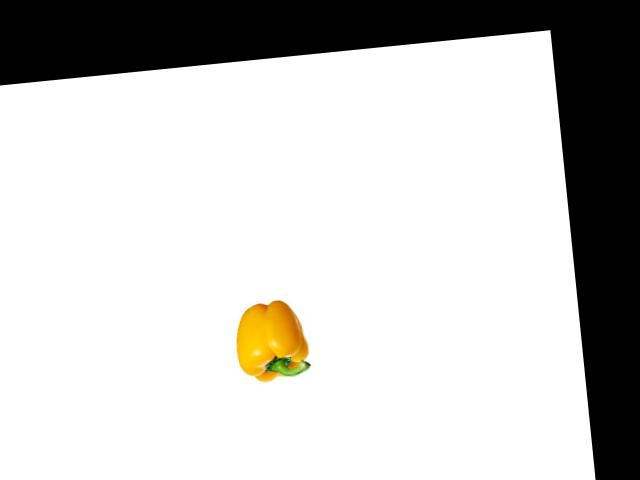bell_pepper: (226, 293, 320, 392)
